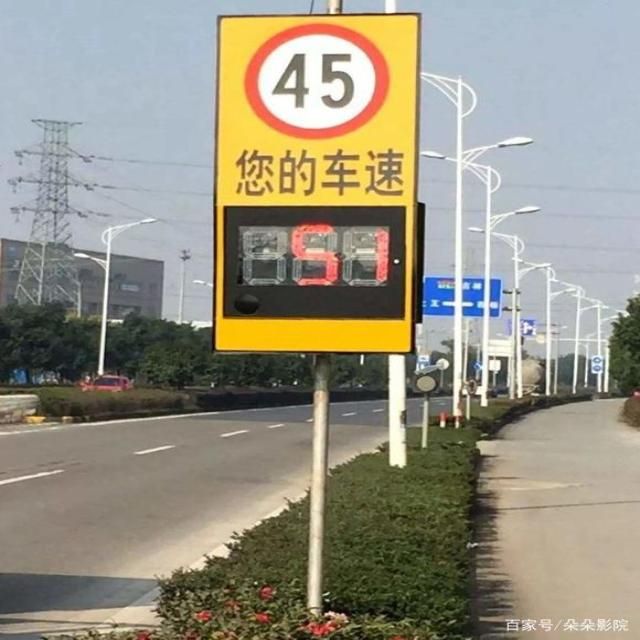speed limit 50: (242, 24, 389, 139)
